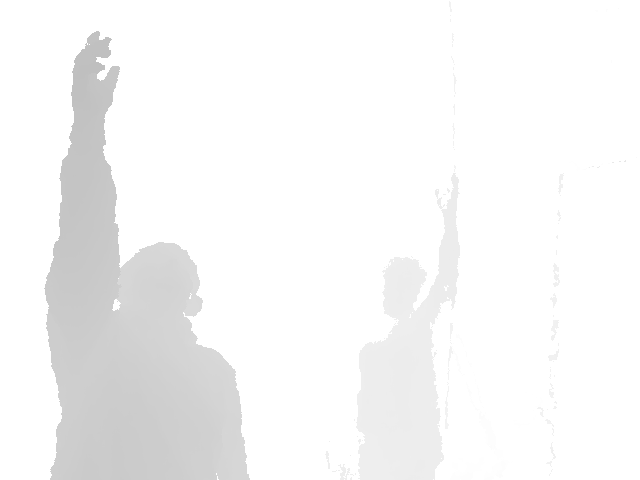hand: (70, 31, 120, 123), (434, 173, 460, 220)
head: (113, 242, 203, 332), (382, 256, 427, 328)
person: (43, 31, 252, 480), (353, 174, 461, 480)
